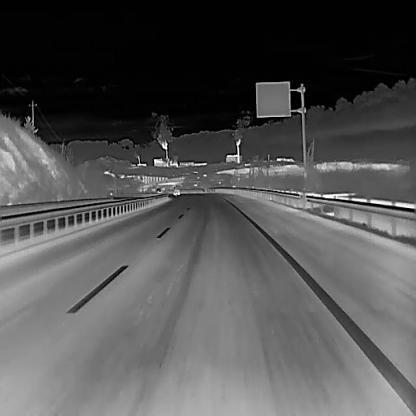car: (171, 184, 179, 195), (155, 186, 162, 193)
